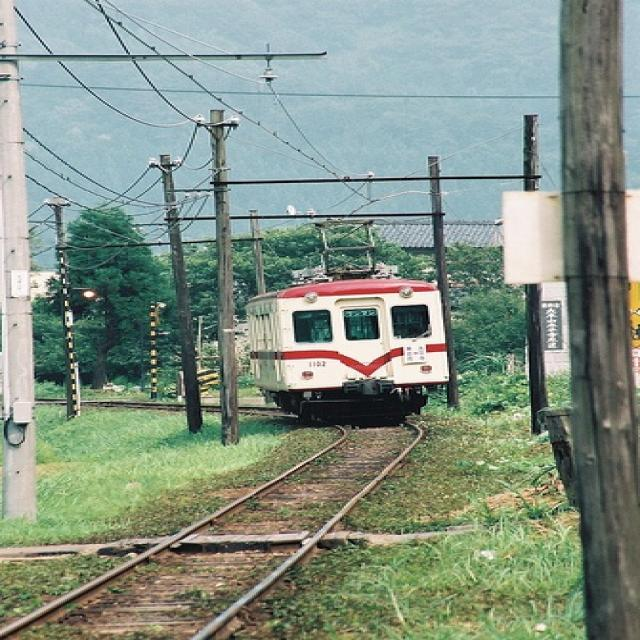train: (245, 278, 452, 426)
